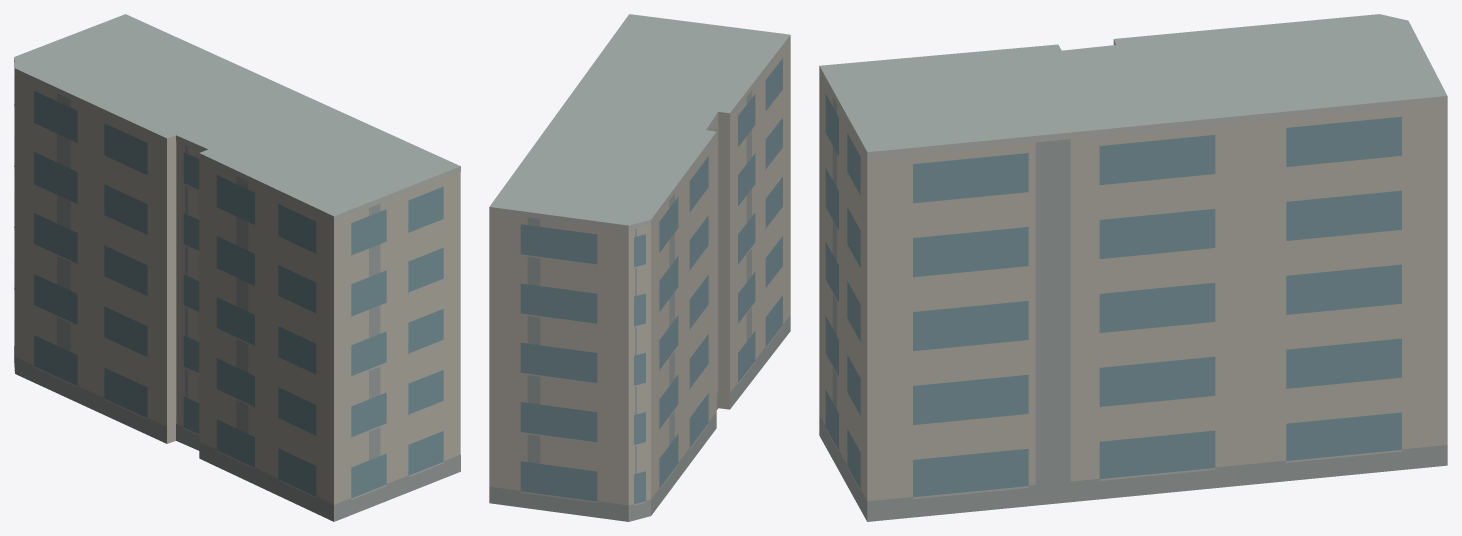
The model's file is survey-upis-32828775.glb.
3 views of the same model, side by side, from view 1: azimuth 30°, elevation 25°; view 2: azimuth 150°, elevation 25°; view 3: azimuth 270°, elevation 25° (orthographic). The views are drawn at different scales.
Visible parts, largest first — view 1: survey-upis-32828775.tmp; view 2: survey-upis-32828775.tmp; view 3: survey-upis-32828775.tmp.
Part boxes in pixels (left/top/right/bottom): survey-upis-32828775.tmp: left=14, top=14, right=460, bottom=521; survey-upis-32828775.tmp: left=489, top=14, right=790, bottom=521; survey-upis-32828775.tmp: left=819, top=14, right=1447, bottom=521.
Bounding box in the file's own units: 10.99 × 13.7 × 21.11.
